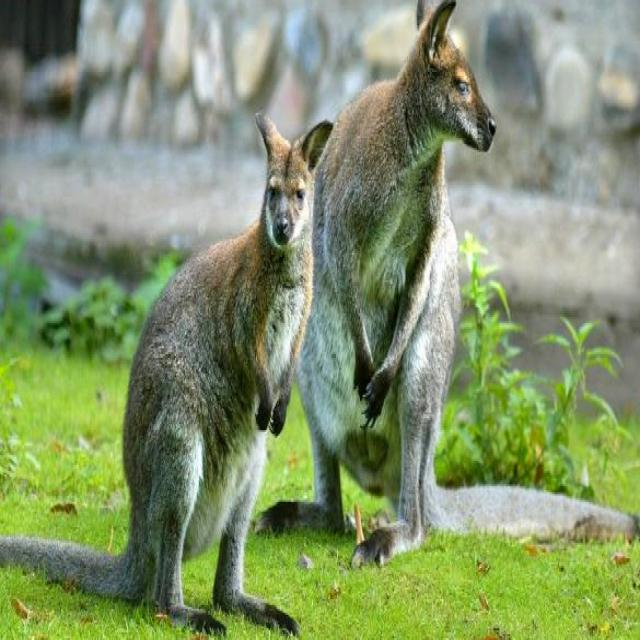kangaroo: (258, 0, 640, 566), (0, 114, 333, 632)
